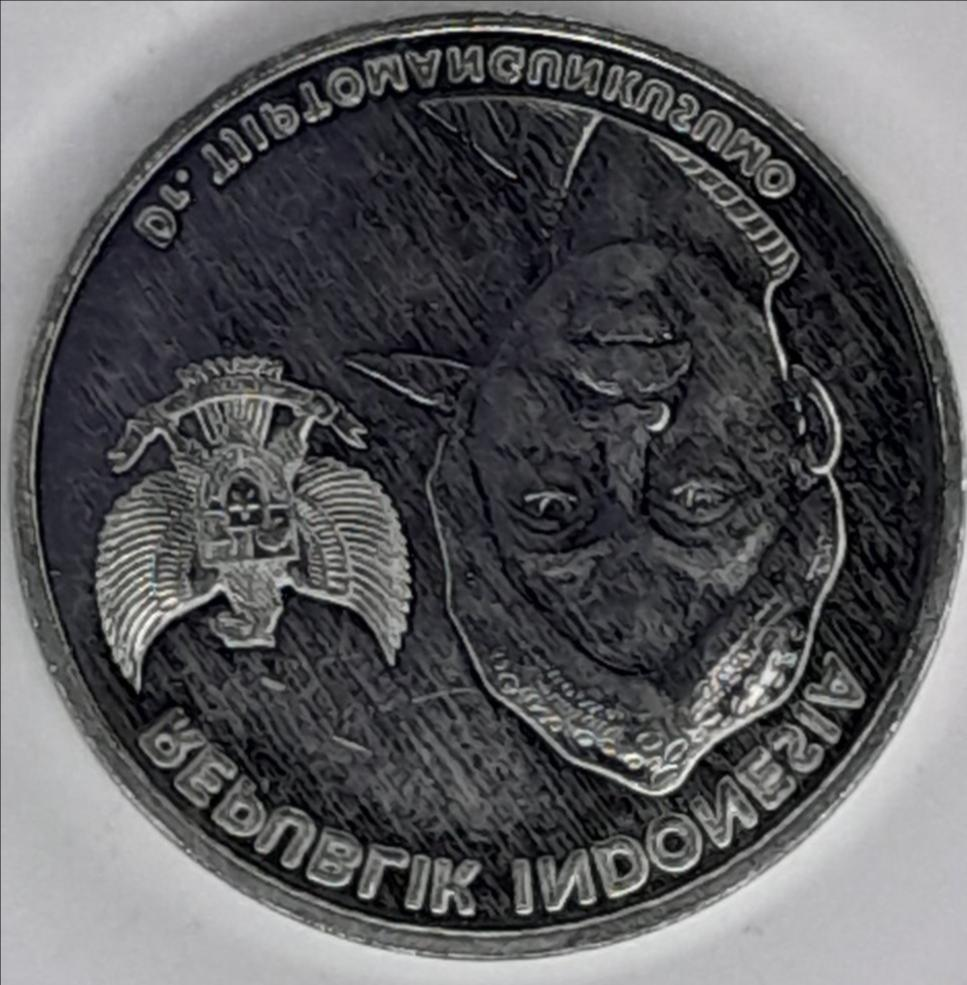coin_200_e2016: (0, 17, 967, 985)
